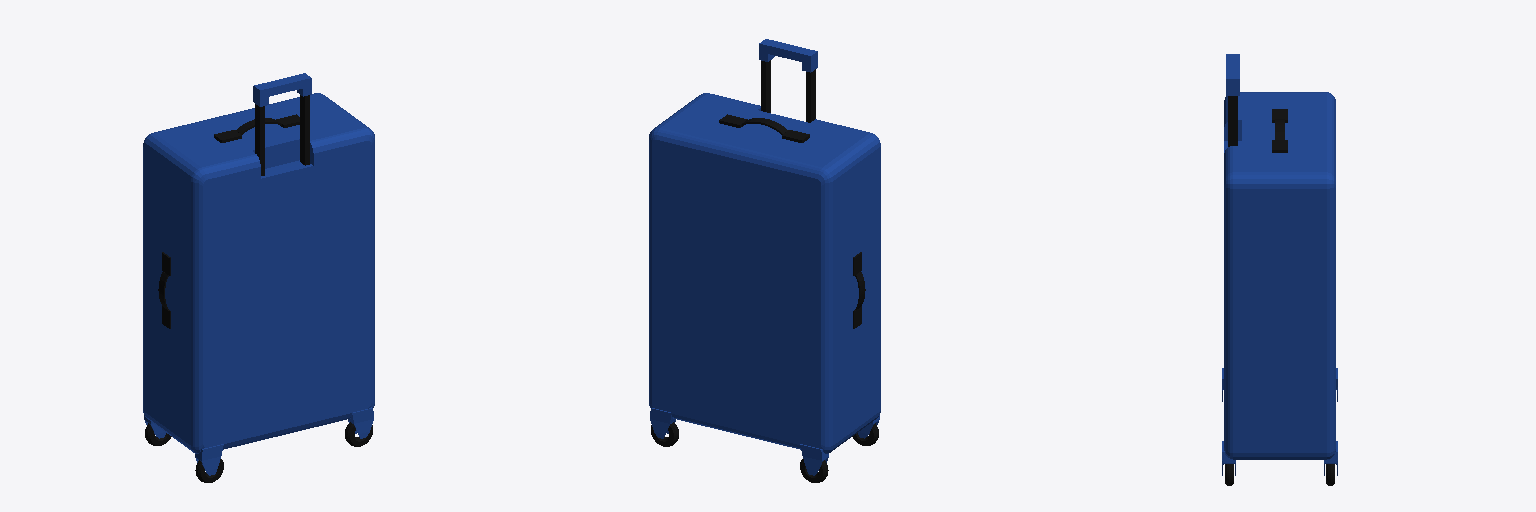
File: luggage.obj
3 views of the same model, side by side, from view 1: azimuth 30°, elevation 25°; view 2: azimuth 150°, elevation 25°; view 3: azimuth 270°, elevation 25° (orthographic).
Bounding box in the file's own units: 20.67 × 39.69 × 10.91.